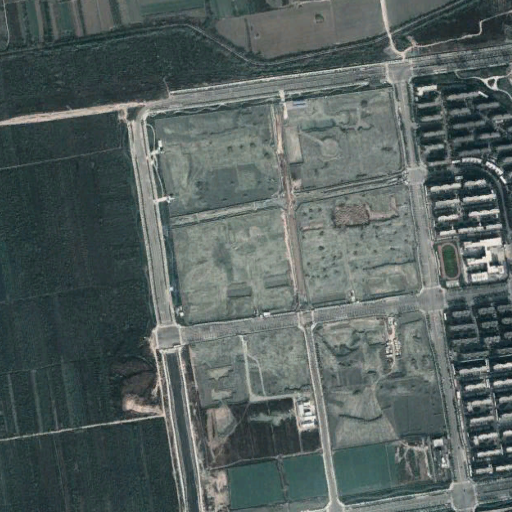cw: (145, 82, 450, 452)
